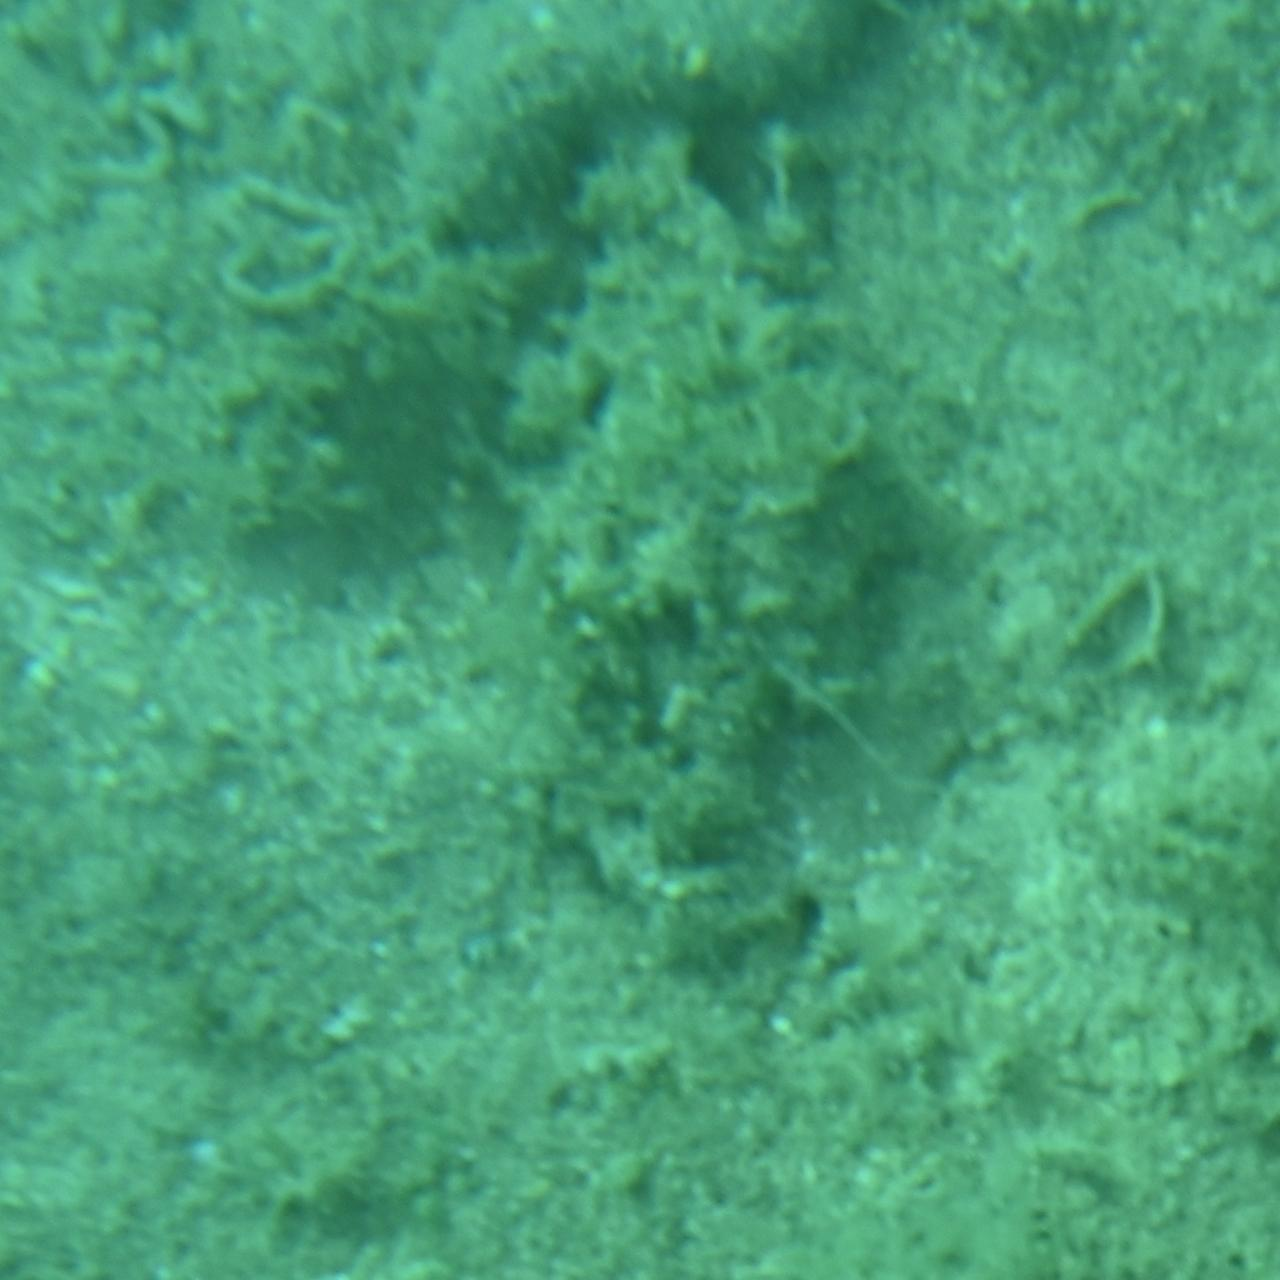Holothuria tubulosa: (404, 2, 876, 275)
